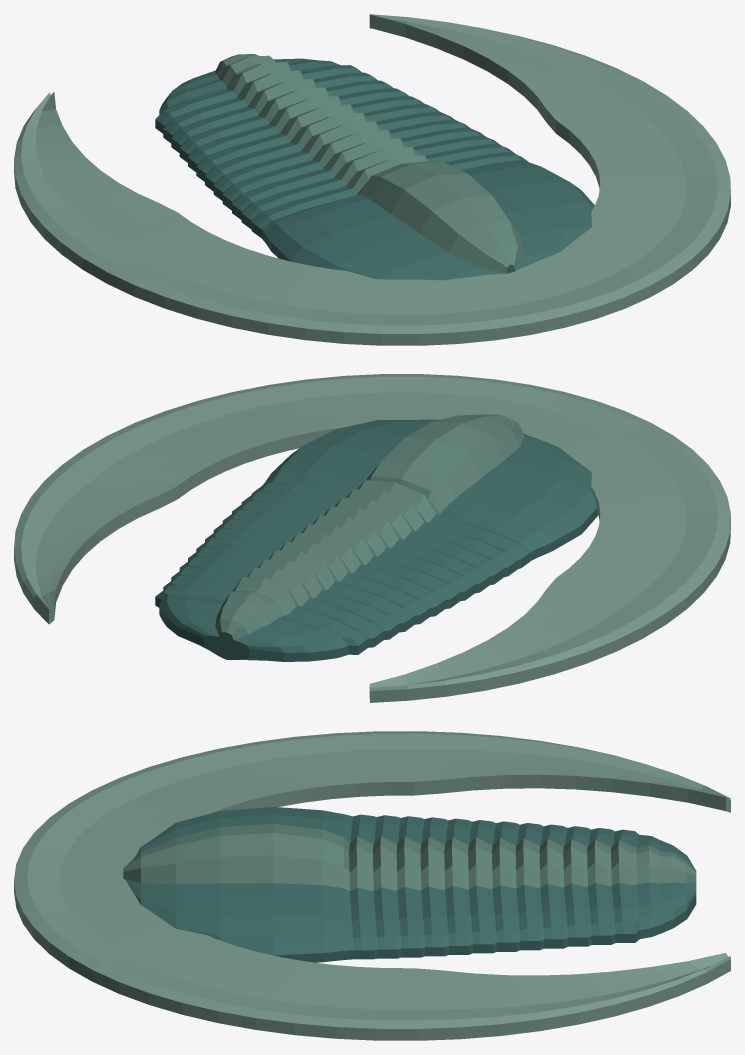
3 renders of one model, top to bottom at view 1: azimuth 30°, elevation 25°; view 2: azimuth 150°, elevation 25°; view 3: azimuth 270°, elevation 25°, orthographic.
Visible parts, largest first — view 1: continuous-cephalic-brim, head-trunk-terminal-shell; view 2: continuous-cephalic-brim, head-trunk-terminal-shell; view 3: continuous-cephalic-brim, head-trunk-terminal-shell.
Boxes of the visible parts, x1=… form: continuous-cephalic-brim: x1=14, y1=14, x2=730, y2=345; head-trunk-terminal-shell: x1=155, y1=54, x2=594, y2=280; continuous-cephalic-brim: x1=14, y1=374, x2=730, y2=702; head-trunk-terminal-shell: x1=155, y1=414, x2=598, y2=661; continuous-cephalic-brim: x1=14, y1=731, x2=730, y2=1040; head-trunk-terminal-shell: x1=123, y1=807, x2=696, y2=962.
Bounding box in the file's own units: 0.0393 × 0.00418 × 0.04.
